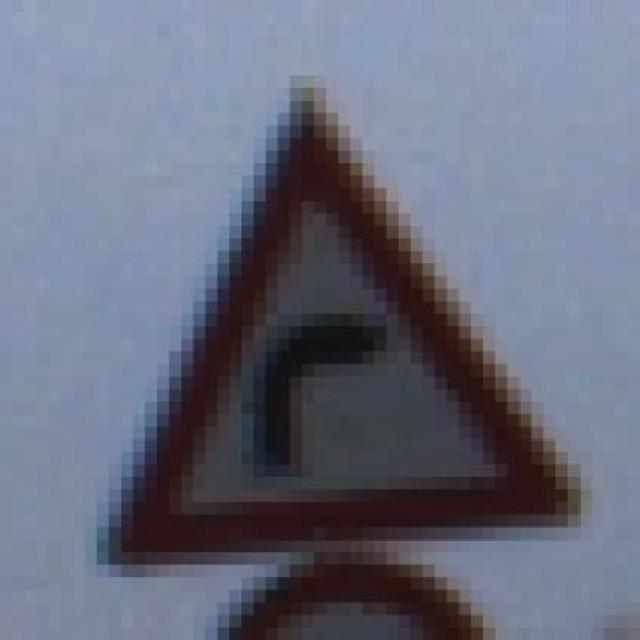Dangerous Rright Curve Ahead: (36, 75, 592, 578)
